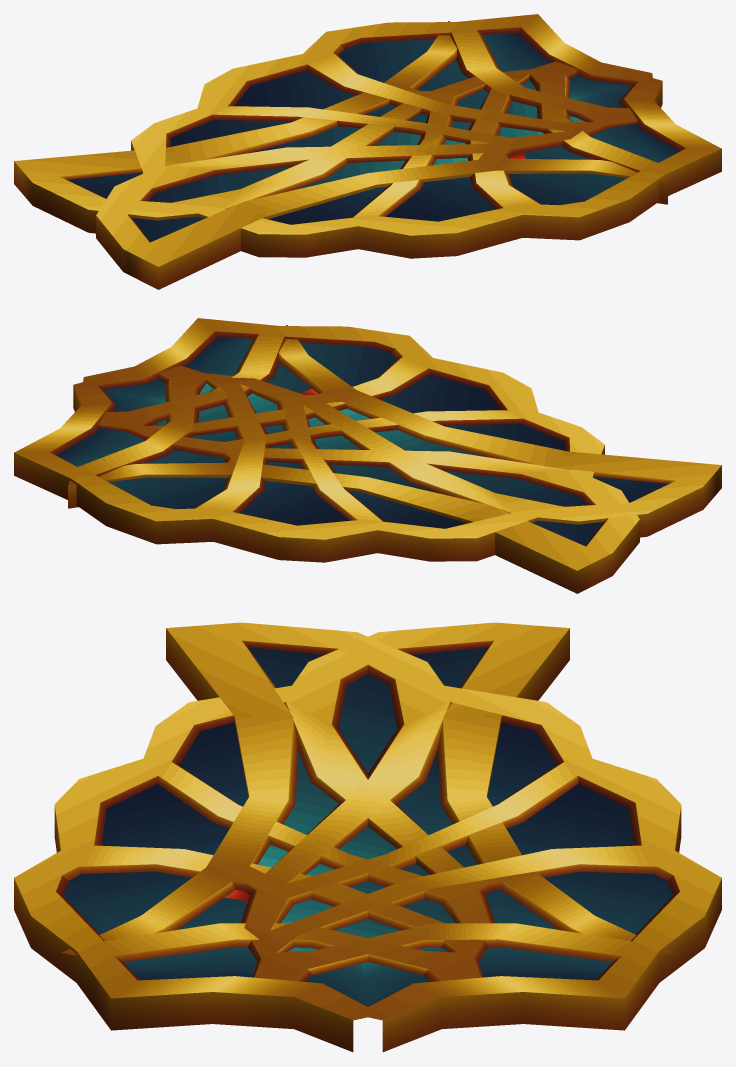
Rendered from CairoV2_power1.glb.
3 renders of one model, top to bottom at view 1: azimuth 30°, elevation 25°; view 2: azimuth 150°, elevation 25°; view 3: azimuth 270°, elevation 25°, orthographic. The views are drawn at different scales.
Parts seen in each view (by area): view 1: L_wing, R_wing; view 2: L_wing, R_wing; view 3: L_wing, R_wing.
Part boxes in pixels (<box>): L_wing: <box>96,14,667,289</box>; R_wing: <box>14,21,721,258</box>; L_wing: <box>14,325,721,562</box>; R_wing: <box>68,318,639,593</box>; L_wing: <box>62,622,721,1052</box>; R_wing: <box>14,622,673,1052</box>.
Size of the model in its own units: 5.45 by 0.2308 by 4.13.
1 material, 1 textured.
